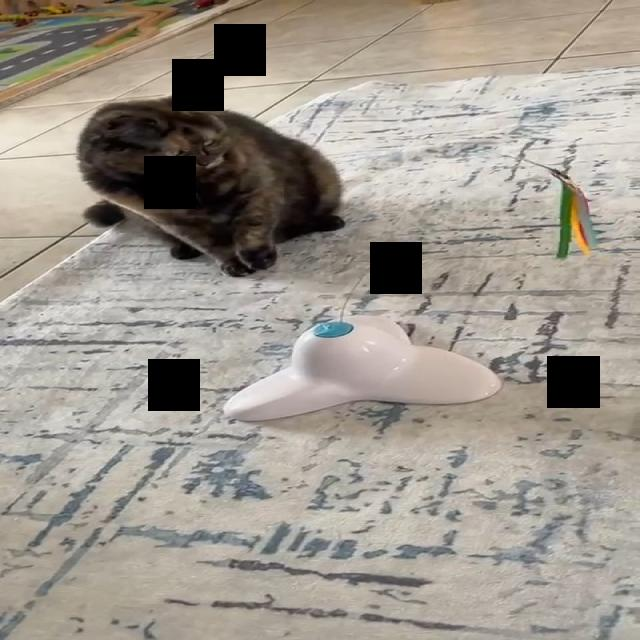authorized: (75, 84, 345, 277)
